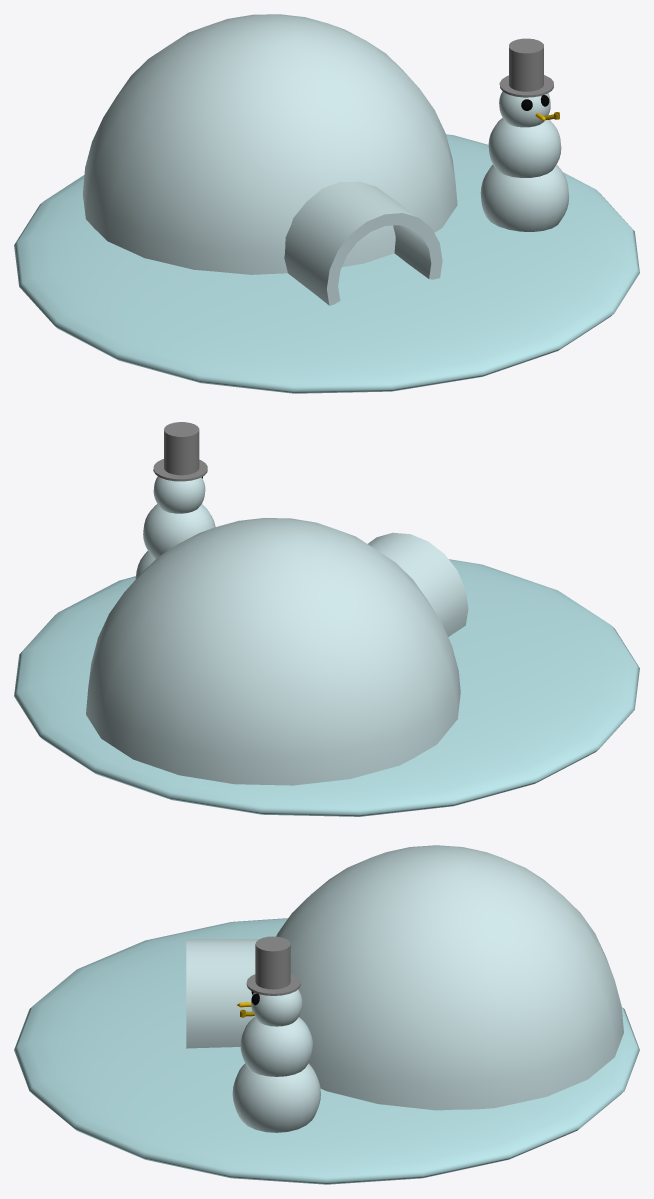
The model's file is Snow_Hub_V3.fbx.
3 views of the same model, one above another, from view 1: azimuth 30°, elevation 25°; view 2: azimuth 150°, elevation 25°; view 3: azimuth 270°, elevation 25° (orthographic).
Visible parts, largest first — view 1: pSphere1, pSphere2, pPipe1, pSphere3, pSphere4, pCylinder2, pSphere5, pCylinder1; view 2: pSphere2, pSphere1, pPipe1, pSphere4, pCylinder2, pSphere5, pCylinder1; view 3: pSphere2, pSphere1, pPipe1, pSphere3, pSphere4, pCylinder2, pSphere5, pCylinder1.
Part boxes in pixels (x1=…): pSphere1: x1=14, y1=134, x2=639, y2=393; pSphere2: x1=82, y1=14, x2=457, y2=274; pPipe1: x1=284, y1=181, x2=442, y2=305; pSphere3: x1=480, y1=164, x2=569, y2=231; pSphere4: x1=488, y1=118, x2=561, y2=177; pCylinder2: x1=509, y1=38, x2=543, y2=91; pSphere5: x1=499, y1=91, x2=550, y2=127; pCylinder1: x1=499, y1=75, x2=553, y2=97; pSphere2: x1=86, y1=518, x2=460, y2=785; pSphere1: x1=14, y1=559, x2=639, y2=816; pPipe1: x1=368, y1=532, x2=468, y2=636; pSphere4: x1=143, y1=504, x2=215, y2=558; pCylinder2: x1=164, y1=422, x2=199, y2=475; pSphere5: x1=153, y1=476, x2=205, y2=513; pCylinder1: x1=153, y1=459, x2=207, y2=481; pSphere2: x1=276, y1=845, x2=623, y2=1110; pSphere1: x1=14, y1=918, x2=639, y2=1184; pPipe1: x1=186, y1=939, x2=259, y2=1048; pSphere3: x1=232, y1=1063, x2=320, y2=1132; pSphere4: x1=240, y1=1017, x2=313, y2=1076; pCylinder2: x1=255, y1=936, x2=290, y2=989; pSphere5: x1=251, y1=989, x2=302, y2=1026; pCylinder1: x1=246, y1=974, x2=300, y2=995.
Size of the model in its own units: 24.1 by 9.14 by 24.1.
